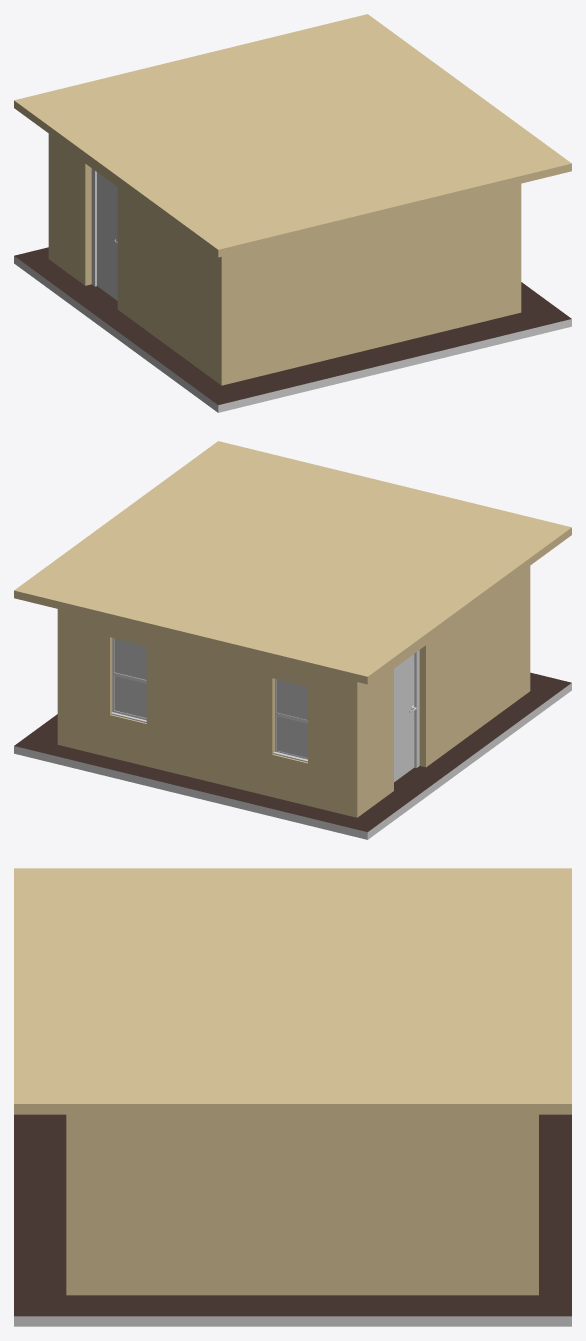
The model's file is FloorPlan225.fbx.
3 renders of one model, top to bottom at view 1: azimuth 30°, elevation 25°; view 2: azimuth 150°, elevation 25°; view 3: azimuth 270°, elevation 25°, orthographic. The views are drawn at different scales.
Parts seen in each view (by area): view 1: Cube.1162, Door.013, DoorFrame.010; view 2: Cube.1162, Window.010, Window.011, Door.013, DoorFrame.010; view 3: Cube.1162.
Boxes of the visible parts, bbox=[...] form: Cube.1162: bbox=[14, 14, 571, 412]; Door.013: bbox=[97, 172, 117, 300]; DoorFrame.010: bbox=[91, 168, 96, 286]; Cube.1162: bbox=[14, 441, 571, 839]; Window.010: bbox=[110, 638, 146, 722]; Window.011: bbox=[273, 679, 307, 762]; Door.013: bbox=[394, 654, 414, 781]; DoorFrame.010: bbox=[414, 650, 419, 767]; Cube.1162: bbox=[14, 868, 571, 1326].
Size of the model in its own units: 633 by 279 by 633.
